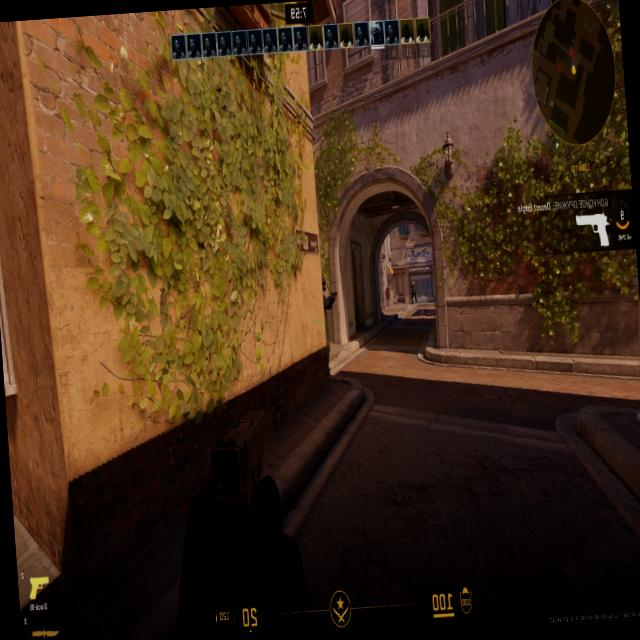CT: (318, 278, 332, 366), (410, 280, 417, 300)
CT_heat: (320, 278, 324, 294), (412, 281, 413, 285)
